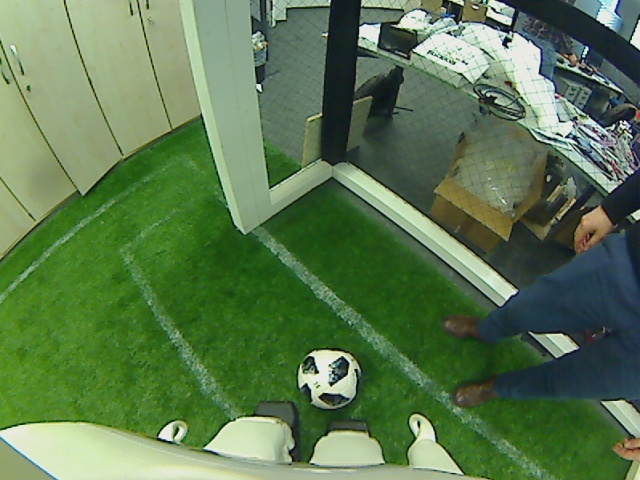ball: (297, 344, 360, 409)
